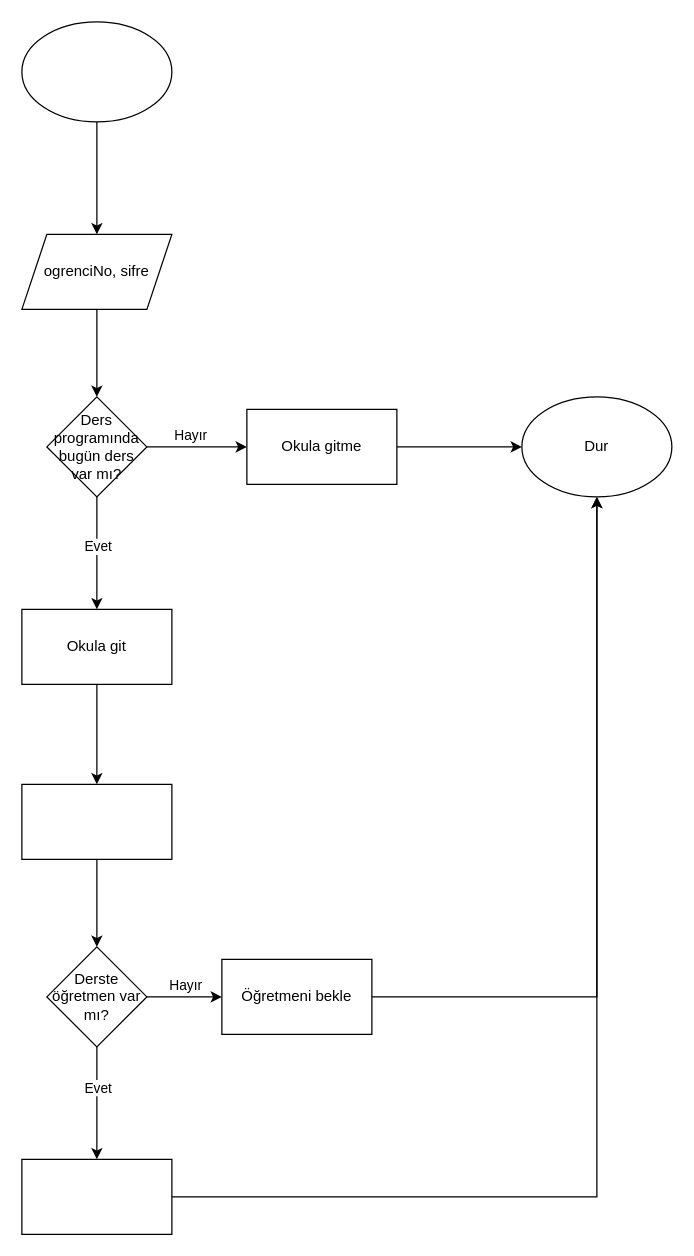
The diagram is 694 pixels wide and 1256 high, and some of its shapes have lost their labels. The shapes that lost their labels are listed below. From the top down, each one's centre as x and y in pixels, then its label:
the point at 96,71: Başla
the point at 96,821: Dersin olduğu dersliğe gir
the point at 96,1196: İzin isteyerek derse katıl
